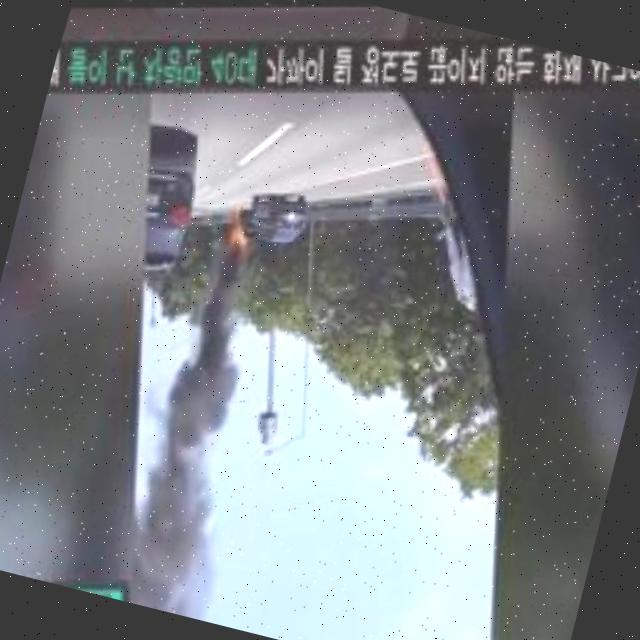fire: (218, 215, 250, 247)
